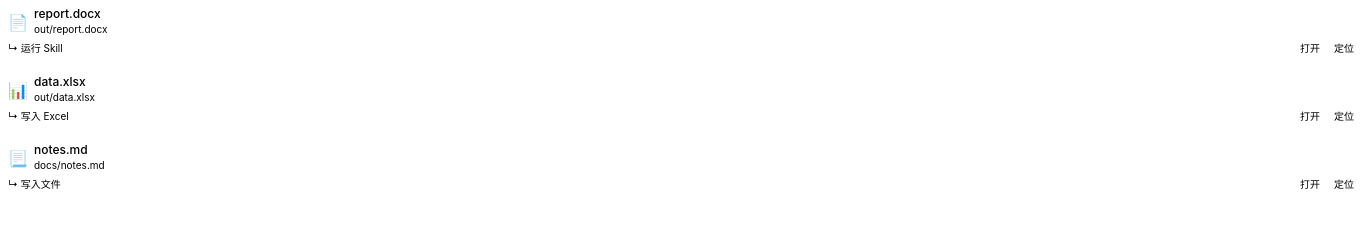
BuildArtifactsPanel › shows inline error when open fails
Click the button titled "用默认程序打开" in the row of "运行 Skill": point(1310, 48) [1296,41,1324,56]
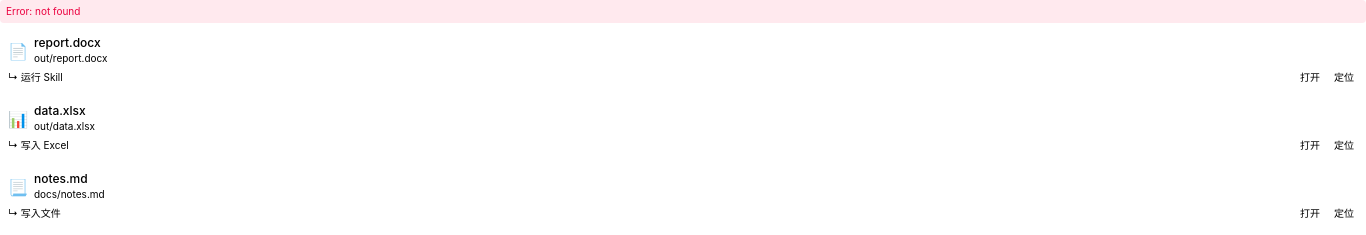
Result: the text "Error: not found" is shown at [0,0,1365,23]
